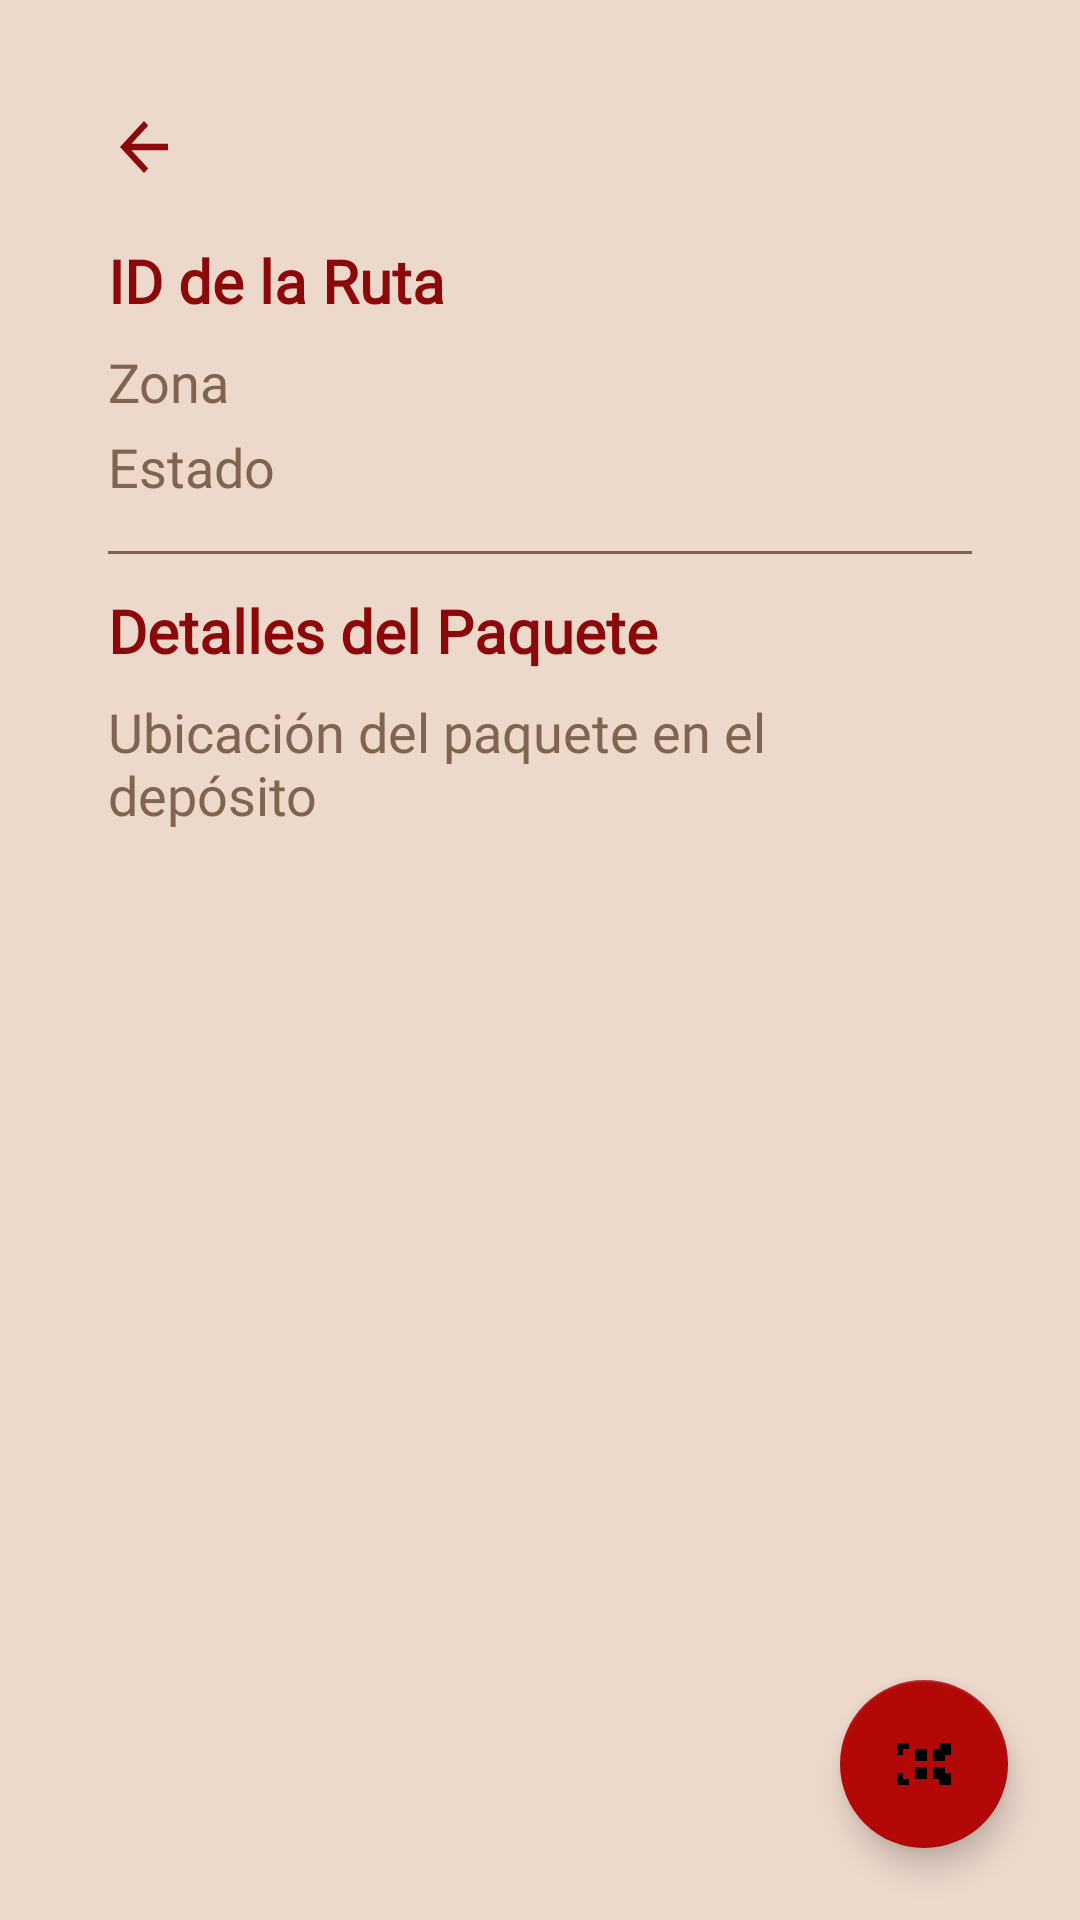

Where icons sit on this 1080px x 1920px app screen, as [x1,y1,x2,y2]:
Escanear QR: [840,1680,1008,1848]
Volver: [120,121,168,173]
